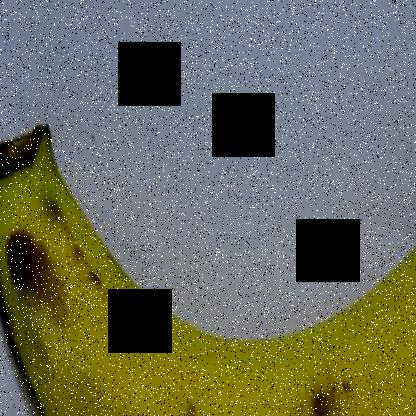freshripe: (1, 117, 416, 415)
